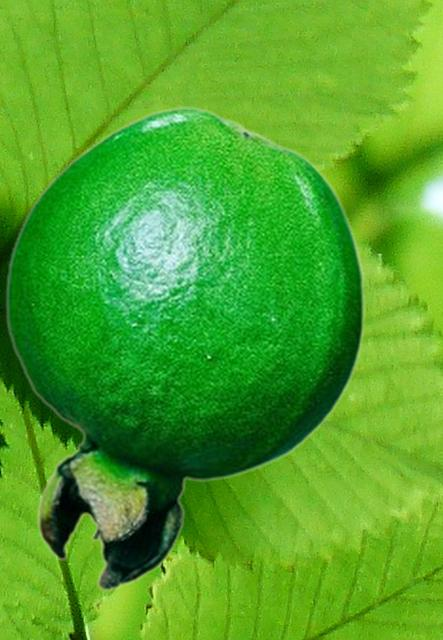guava: (4, 106, 365, 590)
